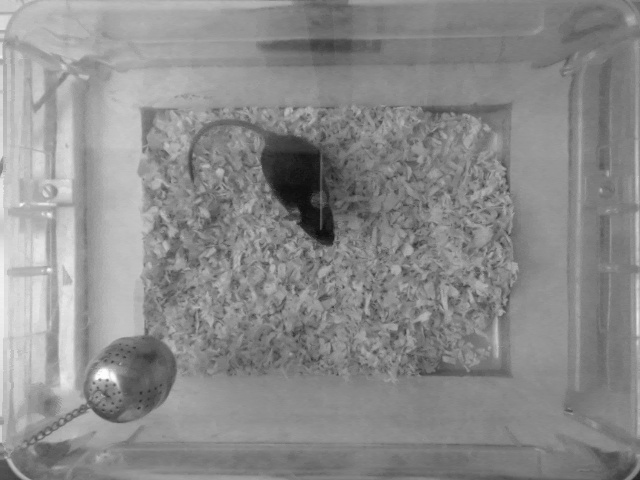mice: (188, 117, 340, 249)
